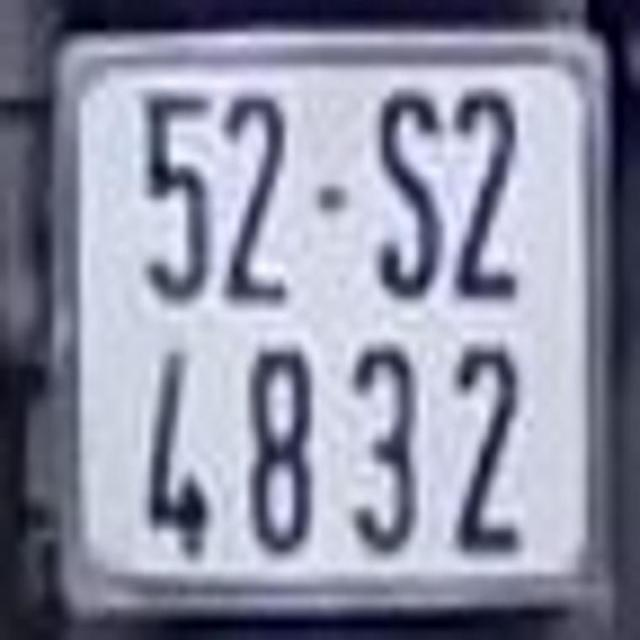2: (454, 88, 524, 294), (218, 99, 288, 296), (453, 345, 518, 545)
3: (351, 346, 418, 554)
4: (149, 352, 213, 550)
5: (142, 97, 205, 298)
8: (250, 347, 312, 551)
S: (374, 90, 436, 301)
